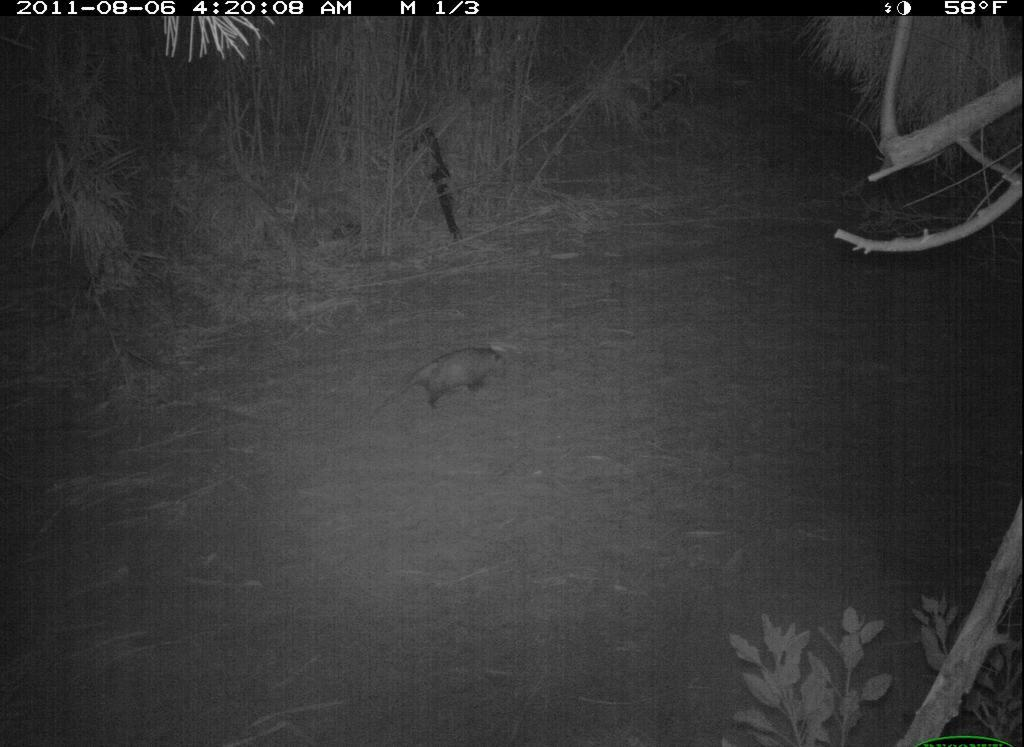opossum: (369, 337, 509, 422)
